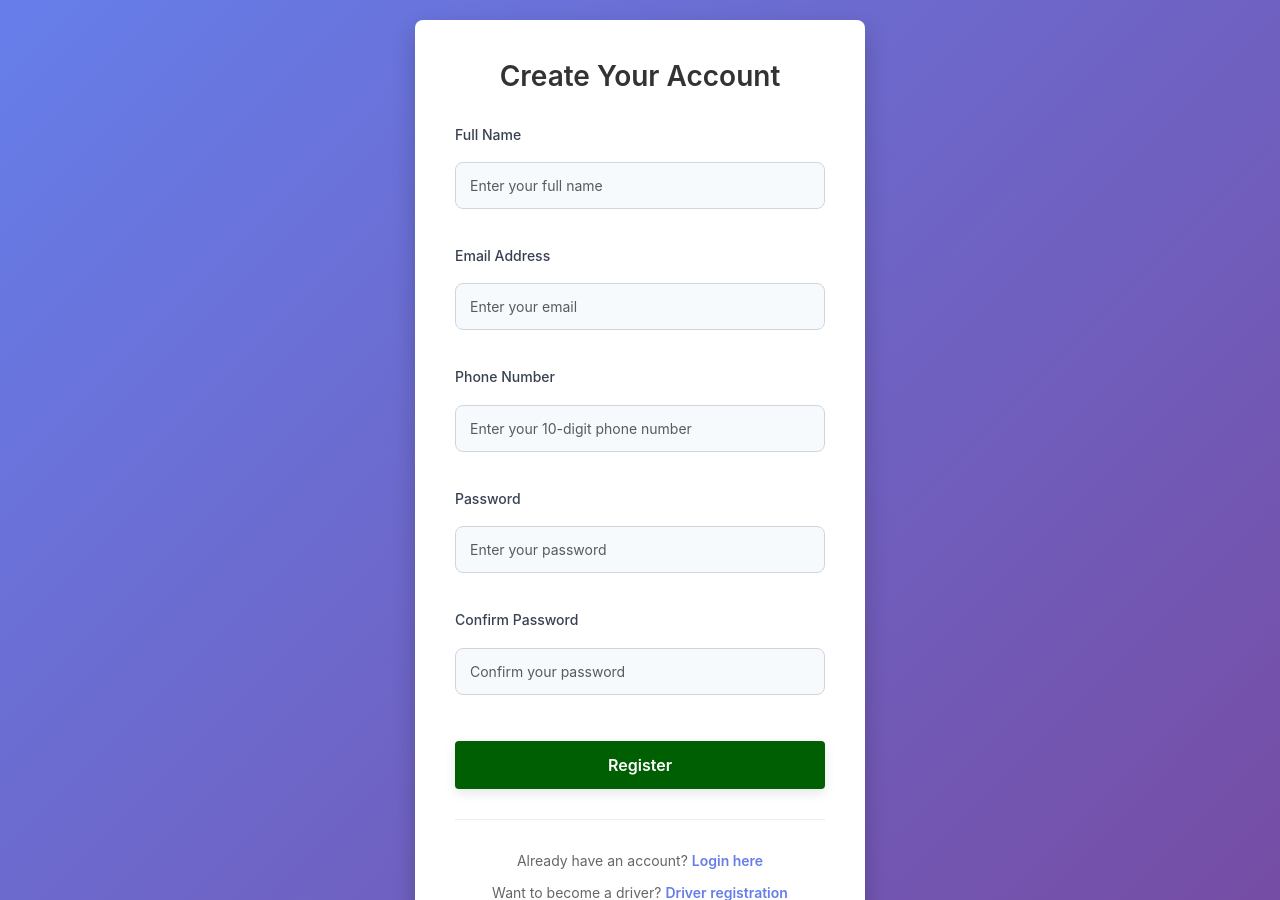
Test: Register Component › validates password minimum length
The image size is (1280, 900).
Type "Test User" into the field labelled "Full Name" at (640, 186), box [455, 162, 825, 209]
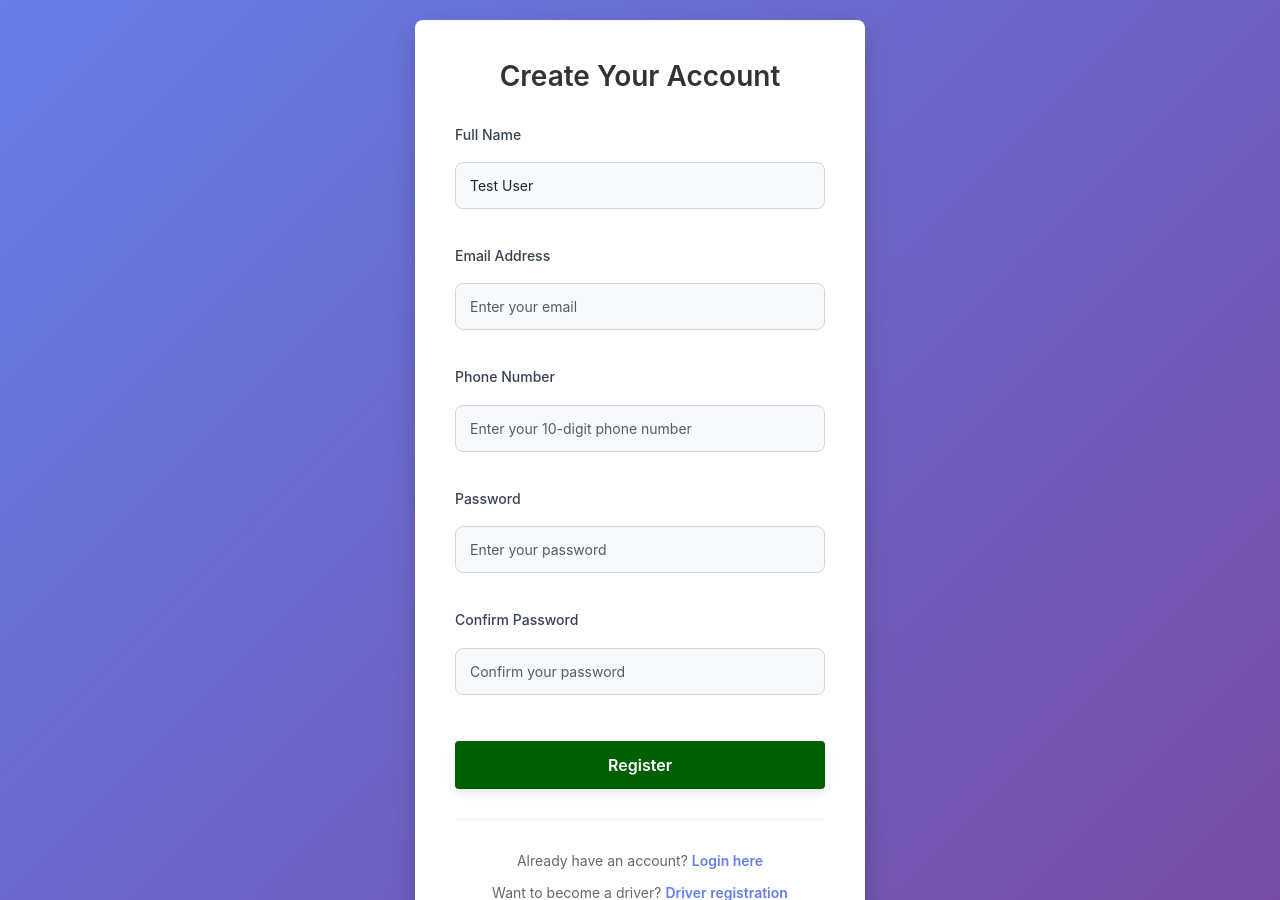
Type "test@test.com" into the field labelled "Email Address" at (640, 307), box [455, 283, 825, 330]
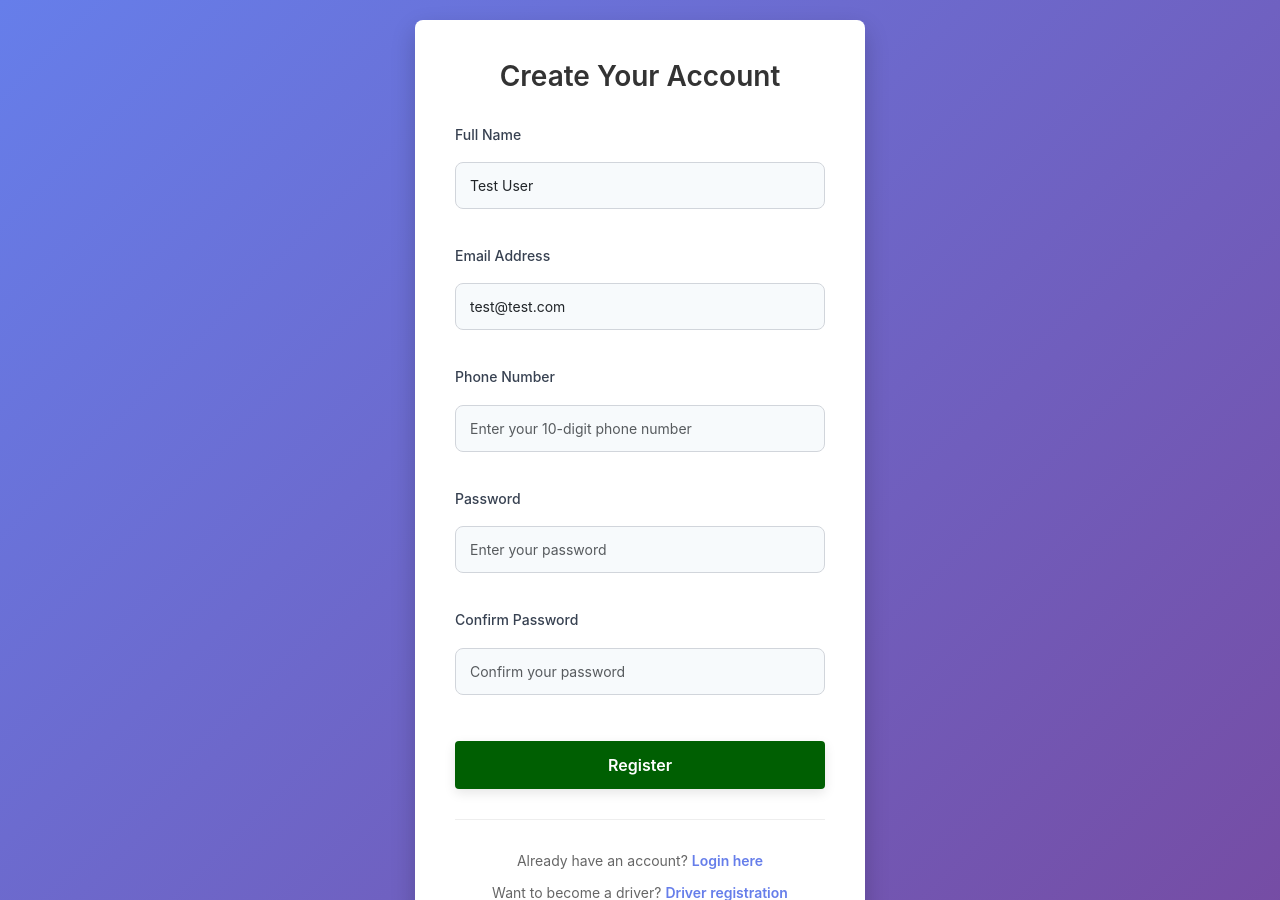
Type "1234567890" into the field labelled "Phone Number" at (640, 428), box [455, 405, 825, 452]
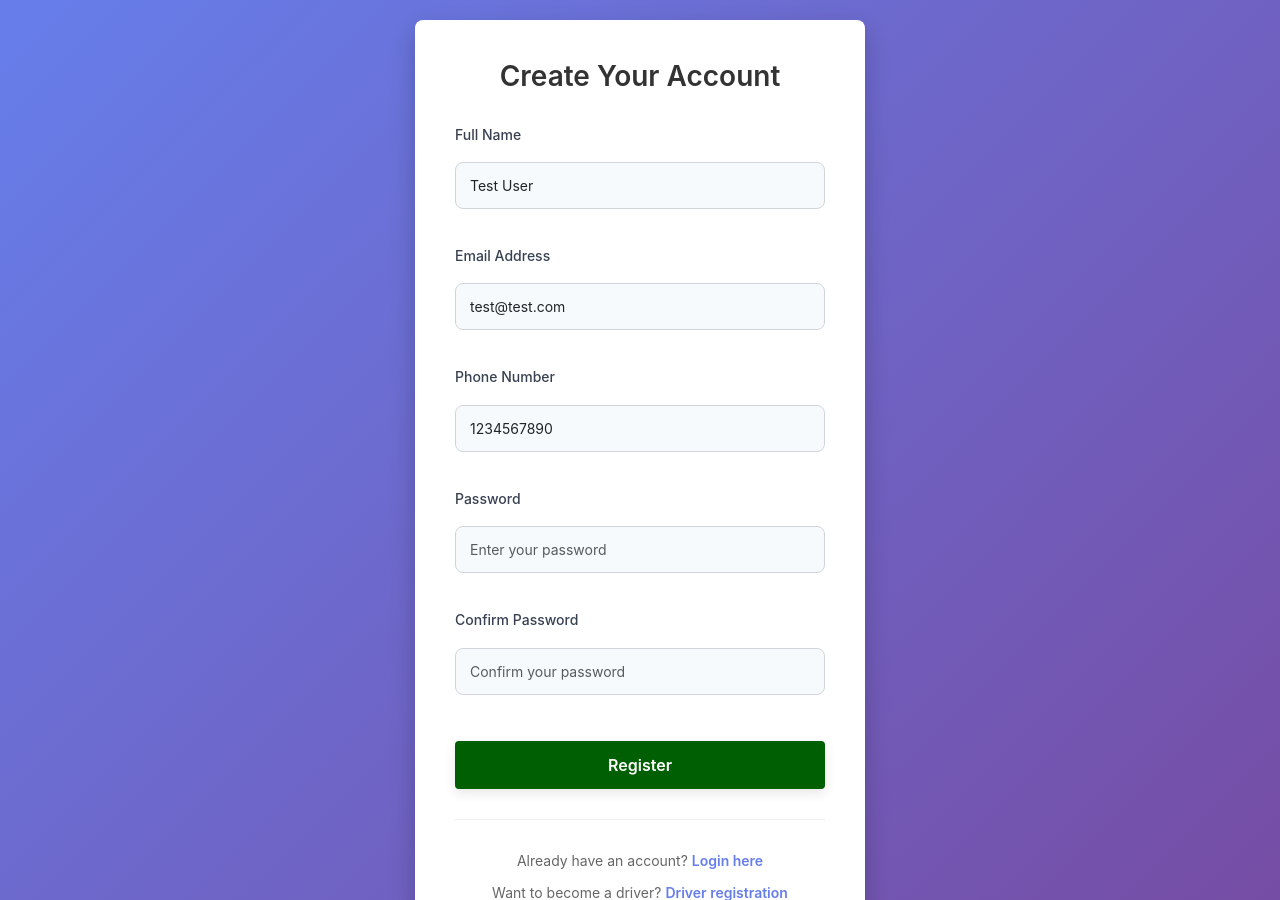
Type "ab" into the password field labelled "Password" at (640, 550), box [455, 526, 825, 573]
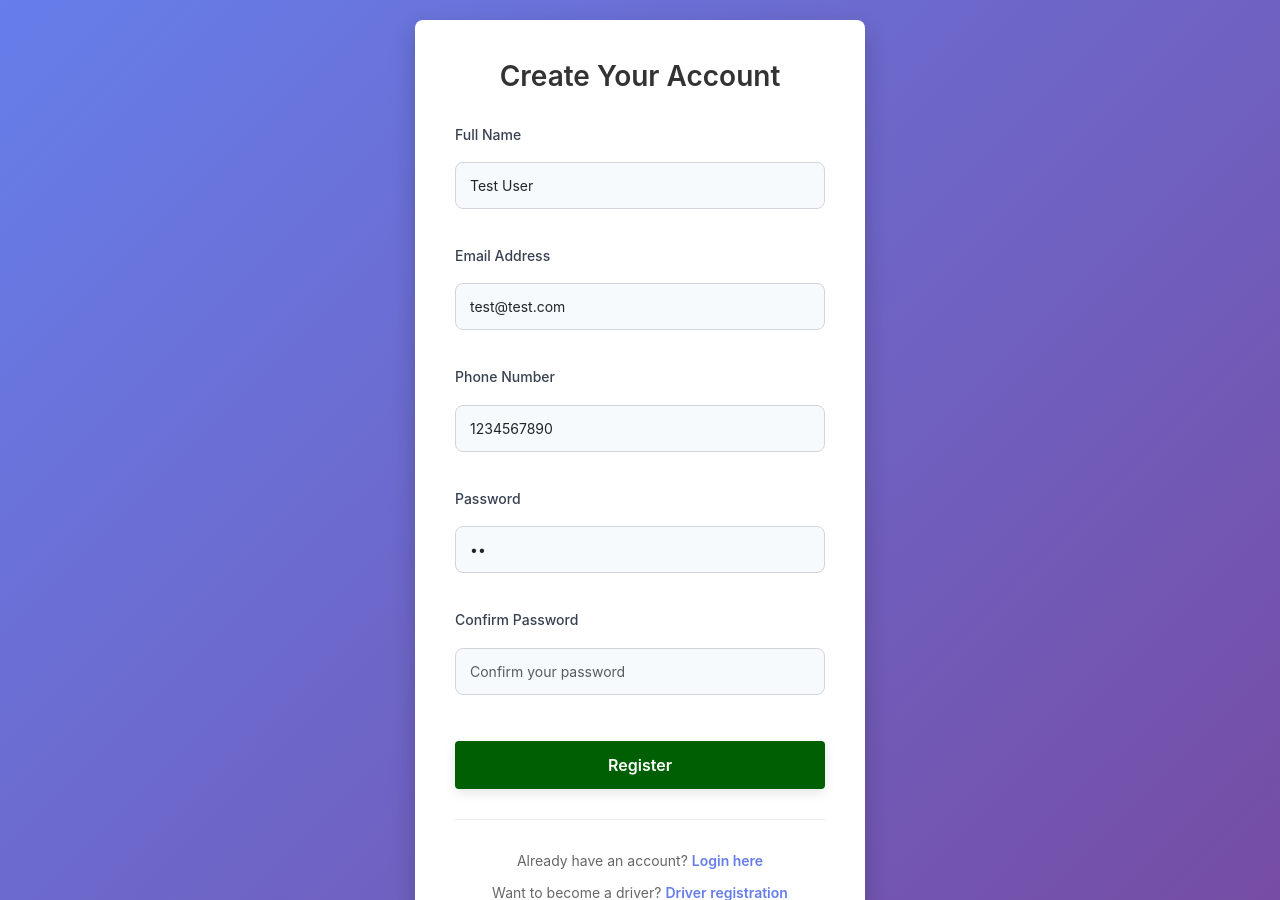
Type "ab" into the password field labelled "Confirm Password" at (640, 671), box [455, 648, 825, 694]
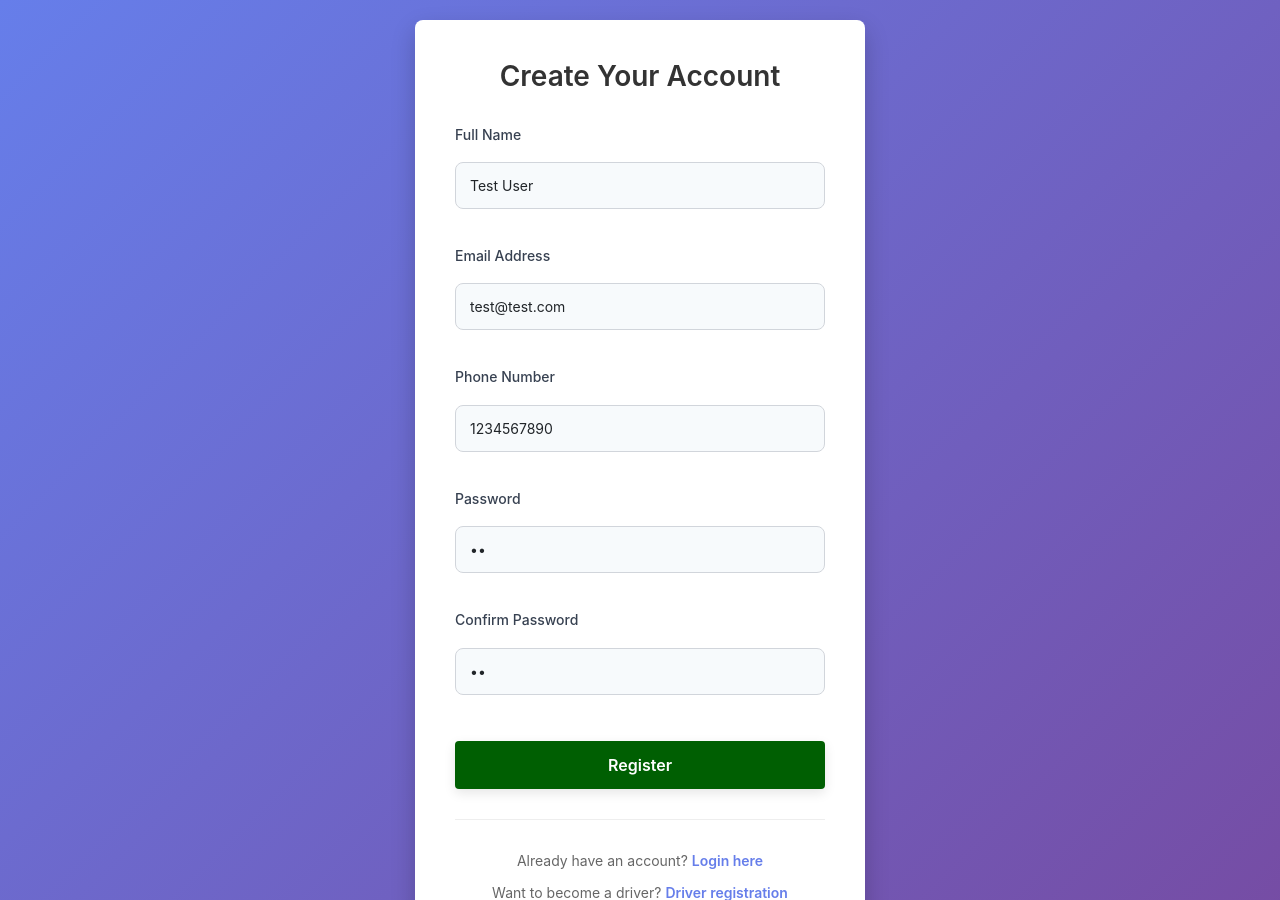
Click the button "Register" at (640, 764), box [455, 740, 825, 788]
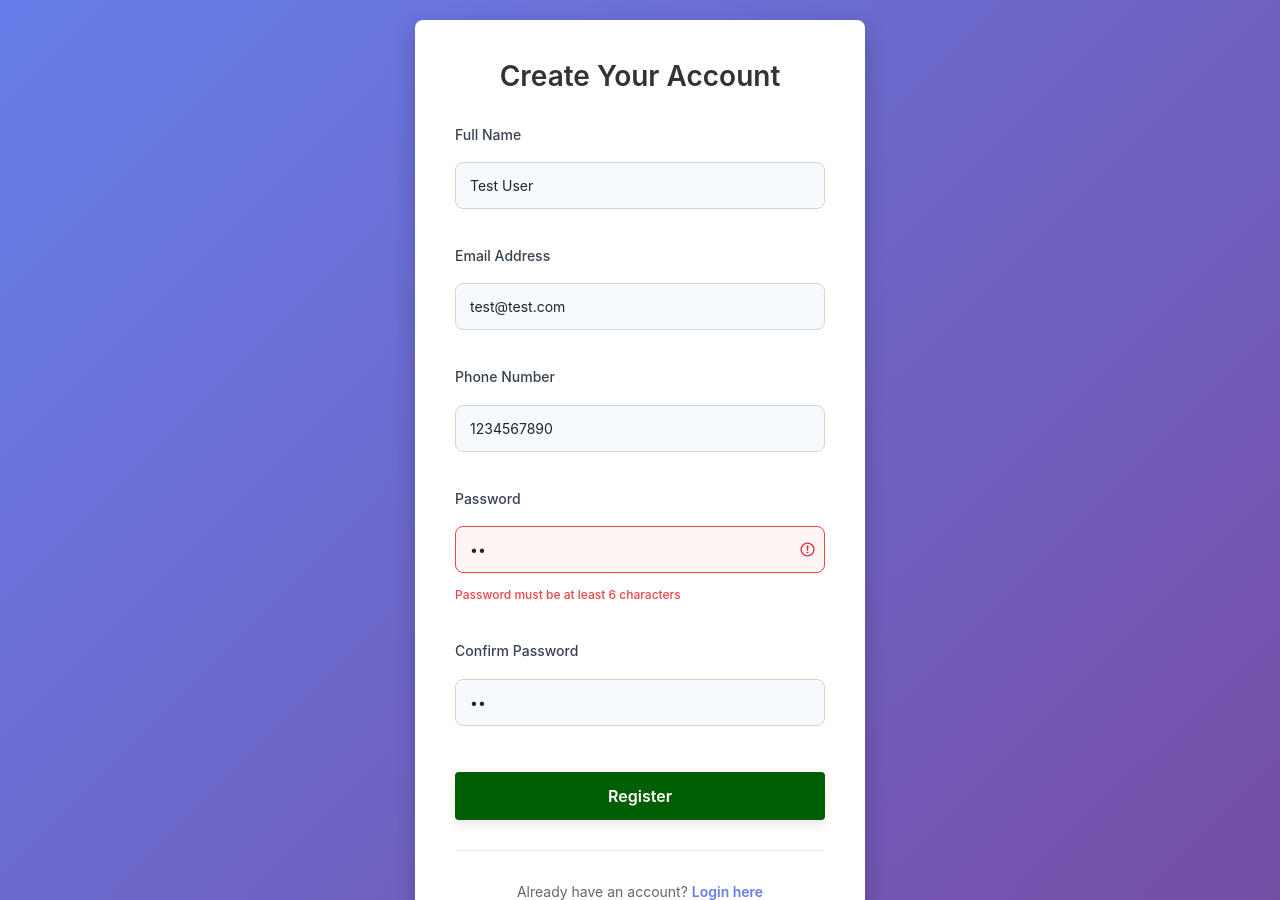
Check: the text "Password must be at least 6 characters" is shown, box [455, 587, 681, 602]
